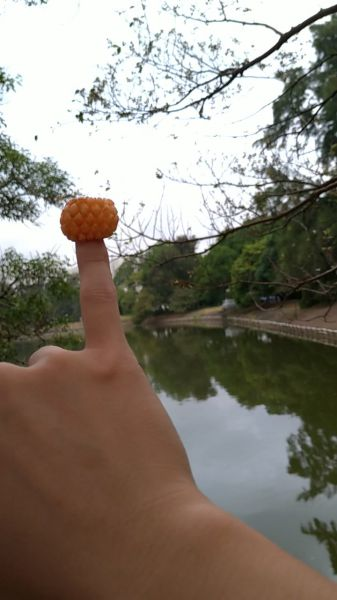eggs: (59, 195, 118, 241)
